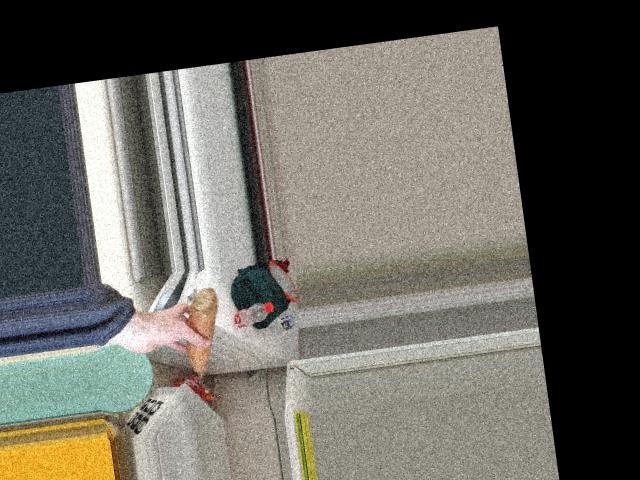sweet_potato: (184, 288, 222, 381)
